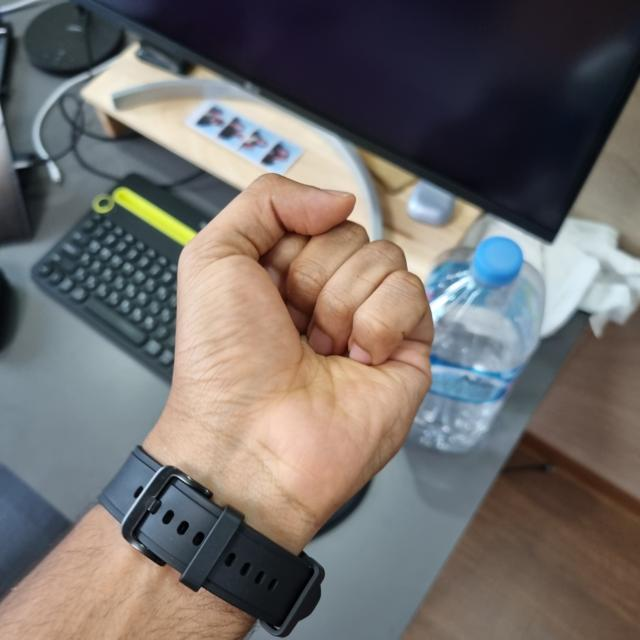Rock: (152, 179, 430, 542)
